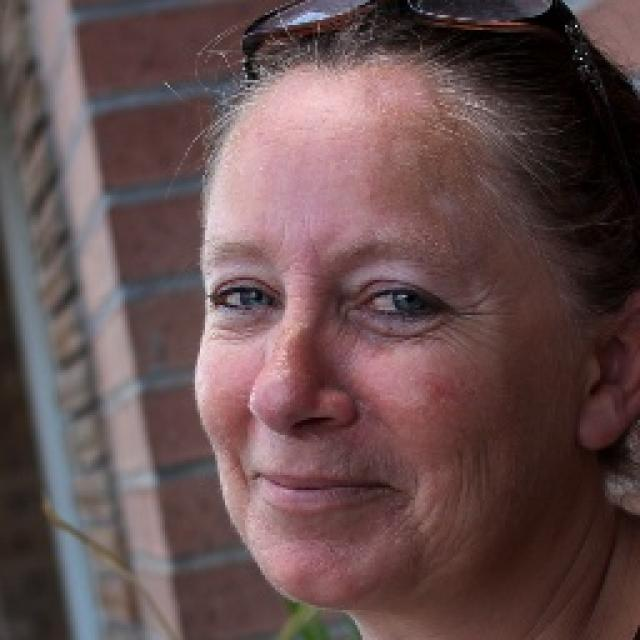earlobe: (575, 294, 640, 452)
